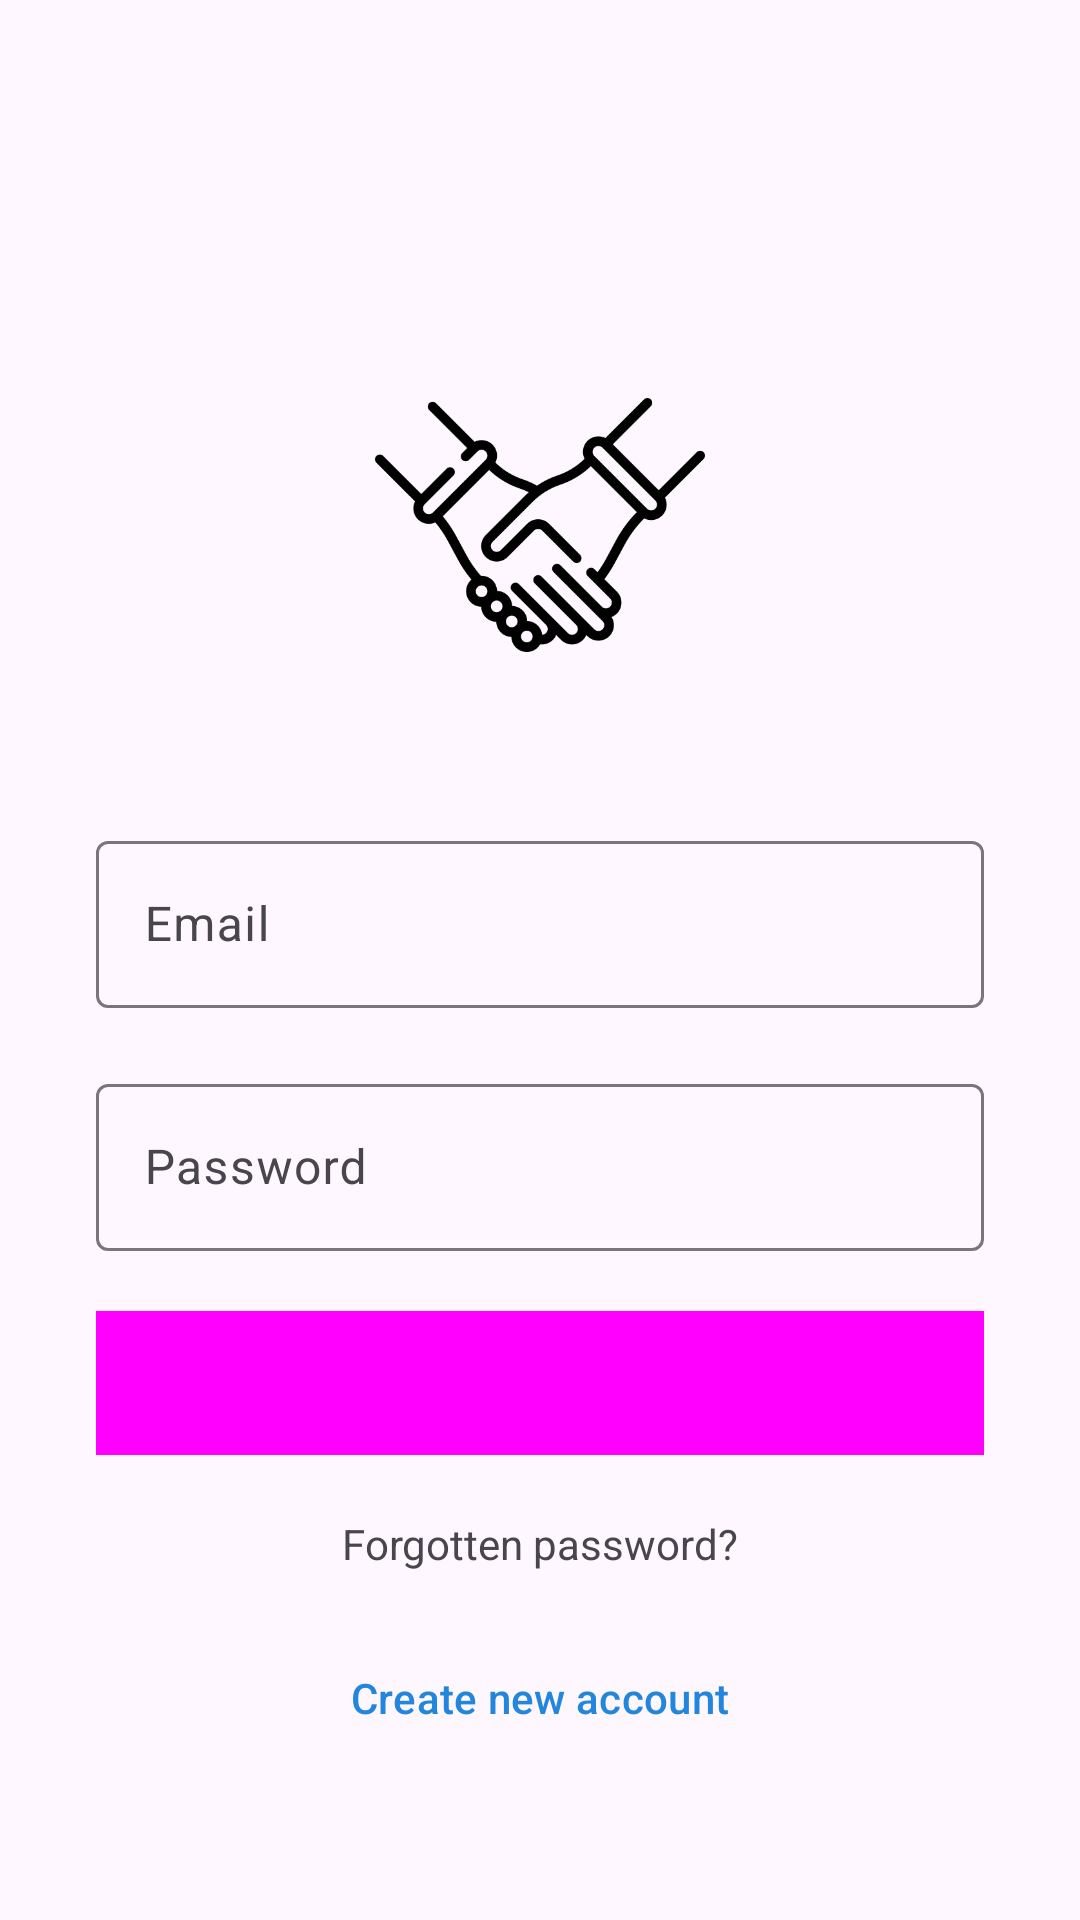

Where icons sit on this 1080x1920 app screen, as (x1, y1, x2, y2):
handshake: (375, 398, 705, 652)
